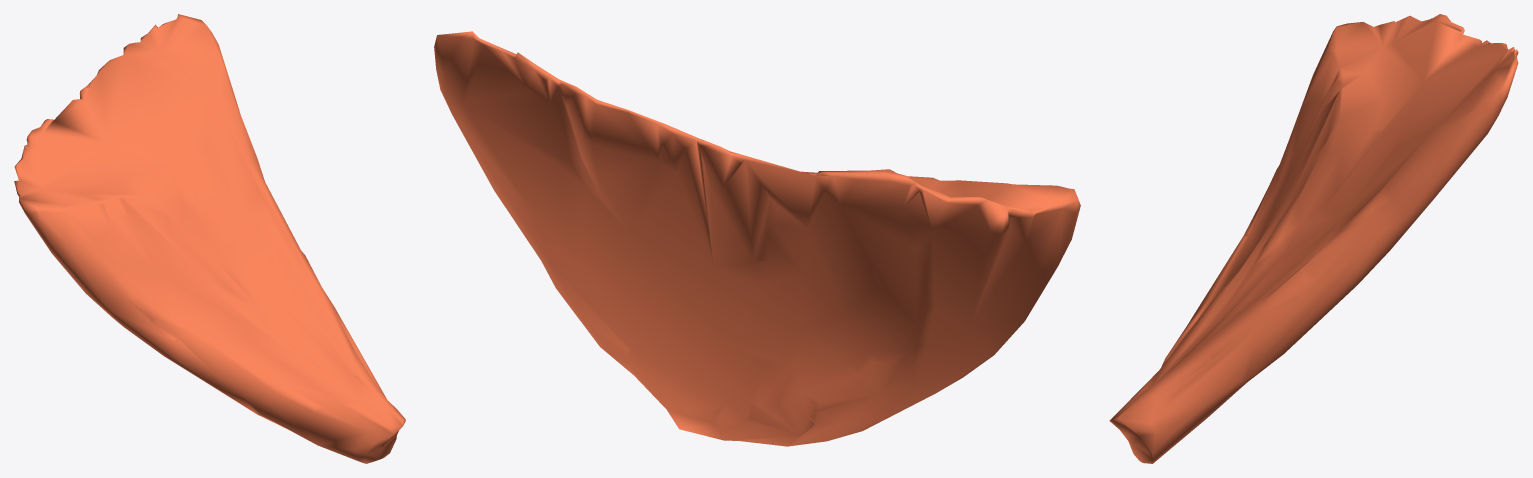
Rendered from Rectus_capitis_posterior_minor_right.glb.
3 renders of one model, left to right at view 1: azimuth 30°, elevation 25°; view 2: azimuth 150°, elevation 25°; view 3: azimuth 270°, elevation 25°, orthographic. The views are drawn at different scales.
Parts seen in each view (by area): view 1: Rectus_posterior_minor_capitis_muscle.r_Generated_Mesh_From_; view 2: Rectus_posterior_minor_capitis_muscle.r_Generated_Mesh_From_; view 3: Rectus_posterior_minor_capitis_muscle.r_Generated_Mesh_From_.
Part boxes in pixels (x1,y1,x2,y2): Rectus_posterior_minor_capitis_muscle.r_Generated_Mesh_From_: (14,14,405,463); Rectus_posterior_minor_capitis_muscle.r_Generated_Mesh_From_: (434,31,1080,446); Rectus_posterior_minor_capitis_muscle.r_Generated_Mesh_From_: (1109,14,1518,463).
Size of the model in its own units: 0.0236 by 0.0261 by 0.0253.
